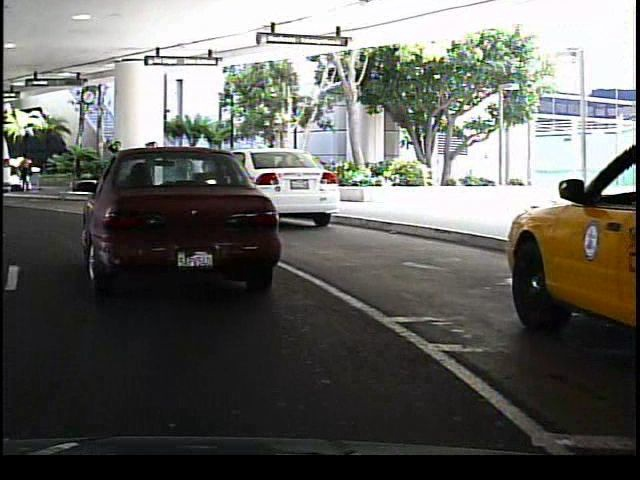person: (102, 136, 126, 197), (181, 142, 207, 193), (139, 138, 162, 195), (19, 153, 35, 197)
